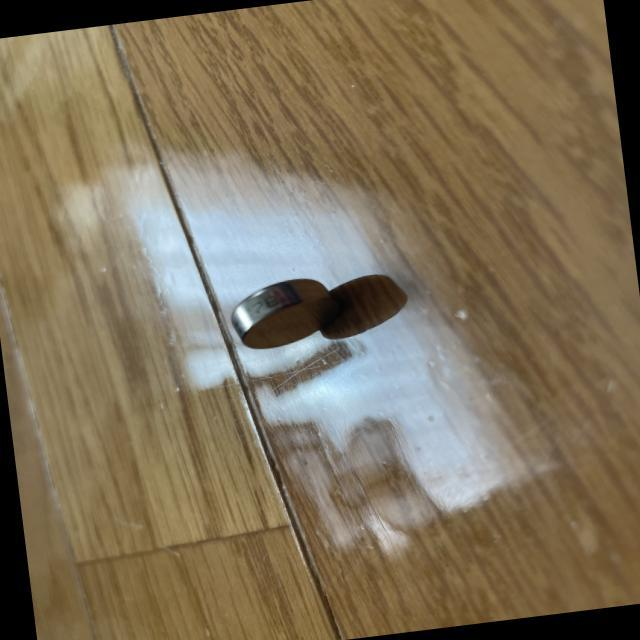COIN: (222, 270, 350, 352)
